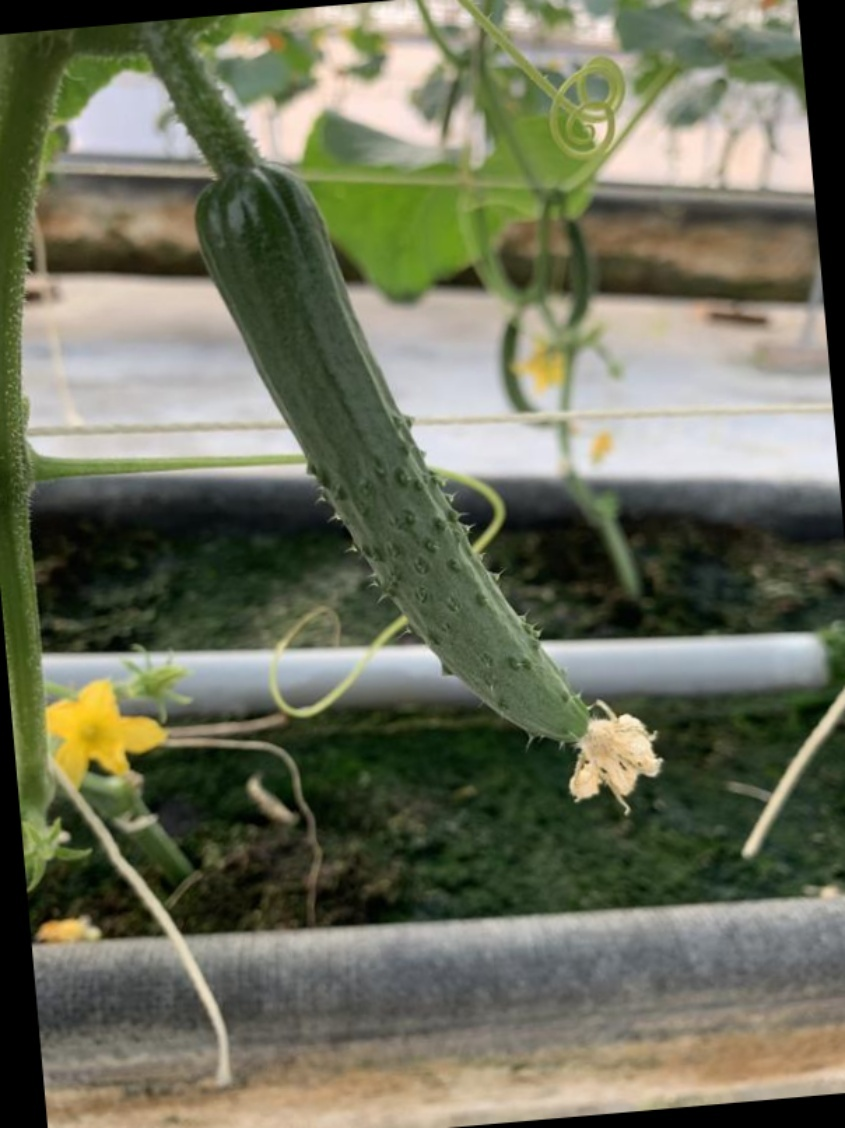growth: (159, 118, 622, 827)
